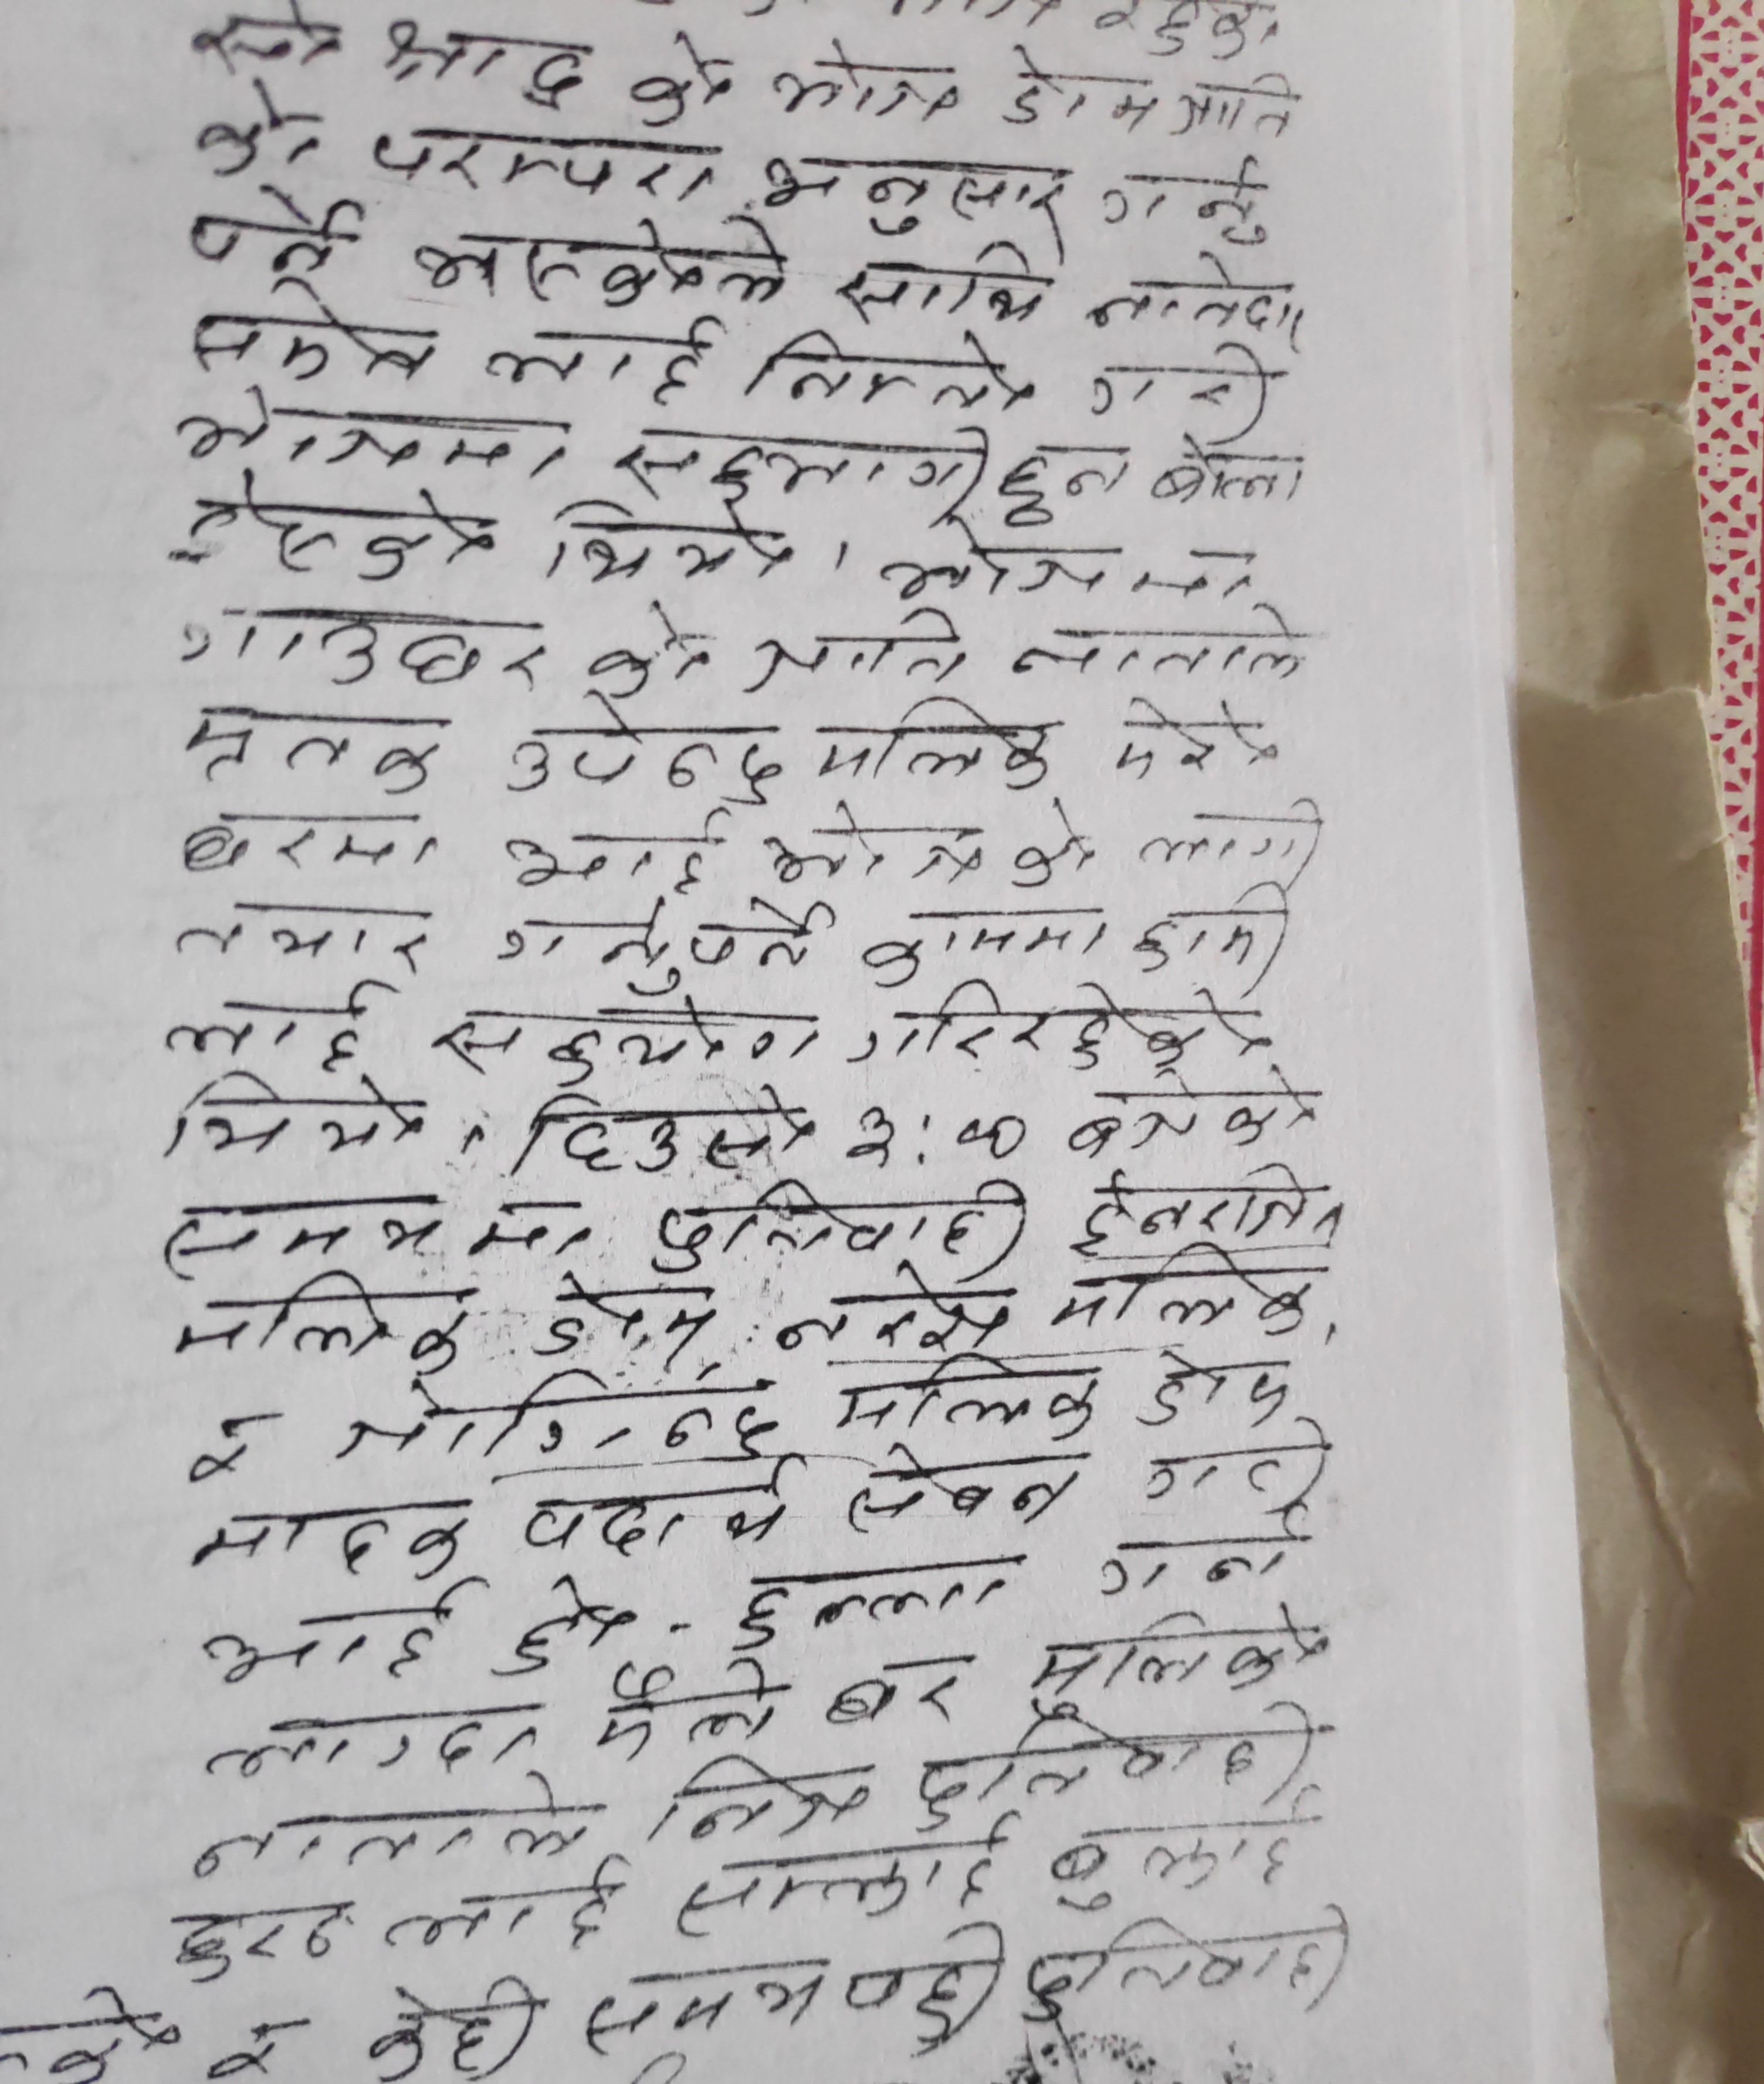text: (324, 1368, 787, 1468), (915, 1711, 1314, 1827), (873, 506, 1262, 611), (639, 1172, 1032, 1274), (1025, 1906, 1363, 2023), (152, 1190, 604, 1274), (168, 388, 570, 481), (189, 1785, 597, 1876), (845, 987, 1274, 1073), (499, 896, 849, 1001), (404, 212, 793, 306), (175, 598, 555, 691), (665, 1832, 1024, 1930), (609, 418, 996, 507), (1027, 1608, 1339, 1718), (432, 997, 822, 1085), (184, 474, 497, 583), (371, 115, 716, 212), (504, 696, 782, 812), (168, 1279, 479, 1372), (758, 145, 1066, 238), (205, 1699, 542, 1783), (749, 322, 1034, 420), (520, 1083, 817, 1176), (518, 1459, 798, 1557), (189, 1589, 460, 1689), (1046, 1804, 1300, 1909), (159, 1071, 432, 1167), (383, 1851, 632, 1956), (177, 703, 446, 800), (535, 493, 800, 591), (1048, 1251, 1325, 1342), (579, 1956, 824, 2058), (1064, 1167, 1358, 1251), (1001, 605, 1307, 686), (191, 280, 437, 380), (728, 1566, 1020, 1648), (479, 310, 728, 406), (814, 691, 1053, 791), (828, 1358, 1106, 1444), (185, 1501, 476, 1582), (1064, 1073, 1323, 1162), (775, 1263, 1022, 1356), (374, 12, 591, 117), (854, 899, 1111, 987), (838, 1445, 1092, 1531), (754, 798, 987, 891), (838, 1918, 1008, 2044), (159, 980, 387, 1073), (1087, 248, 1309, 343), (492, 808, 726, 896), (586, 1659, 793, 1757), (175, 807, 441, 880), (175, 896, 434, 971), (835, 243, 1048, 334), (1127, 877, 1291, 994), (654, 1757, 868, 1846), (1090, 1507, 1307, 1594), (745, 609, 964, 695), (1088, 156, 1277, 254), (371, 1976, 541, 2084), (1080, 343, 1272, 437), (1134, 786, 1330, 875), (1139, 1431, 1339, 1519), (537, 1267, 724, 1360), (1106, 684, 1284, 779), (163, 1892, 352, 1981), (775, 42, 959, 133), (999, 42, 1160, 143), (184, 185, 352, 280), (493, 1566, 632, 1673), (581, 597, 710, 705), (1137, 1344, 1297, 1430), (835, 1099, 1025, 1169), (1151, 434, 1311, 516), (192, 87, 324, 185), (821, 1654, 987, 1725), (992, 443, 1134, 527), (191, 2, 341, 79), (623, 35, 740, 129), (1165, 73, 1300, 142), (1008, 791, 1099, 891), (180, 1403, 280, 1486), (205, 2011, 315, 2084)
